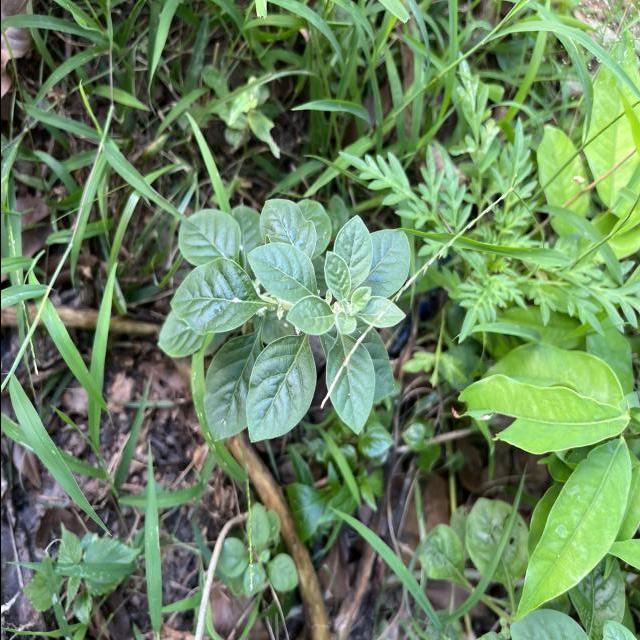Aerva lanata: (242, 332, 318, 443), (165, 255, 264, 338), (244, 240, 317, 304), (332, 212, 374, 298)
